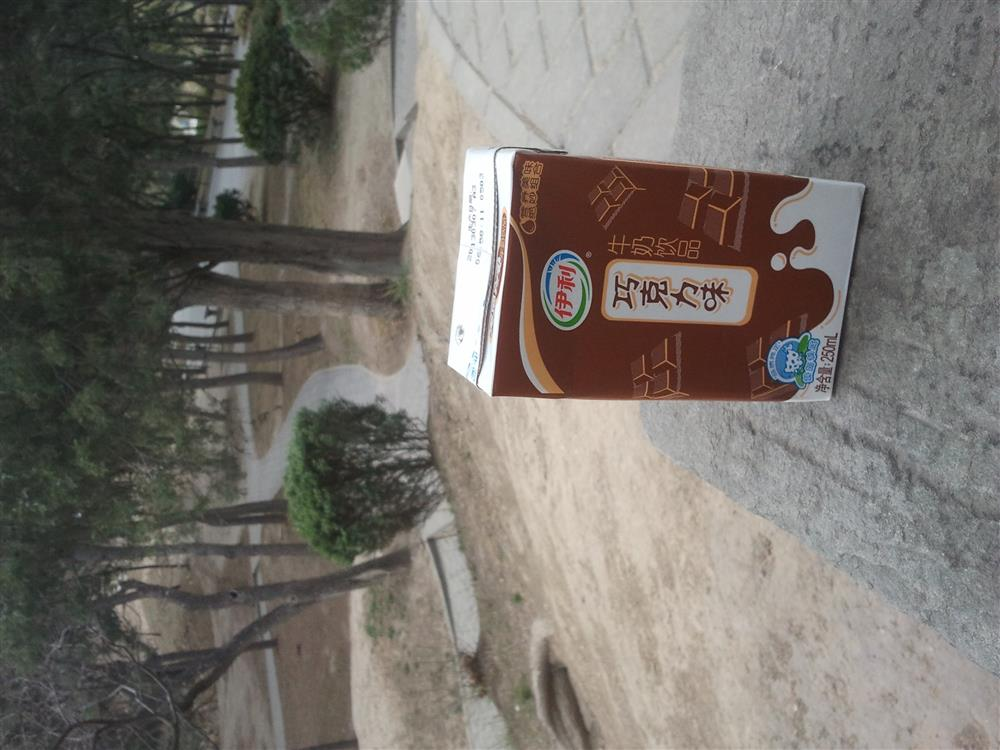Yeale: (490, 145, 862, 403)
